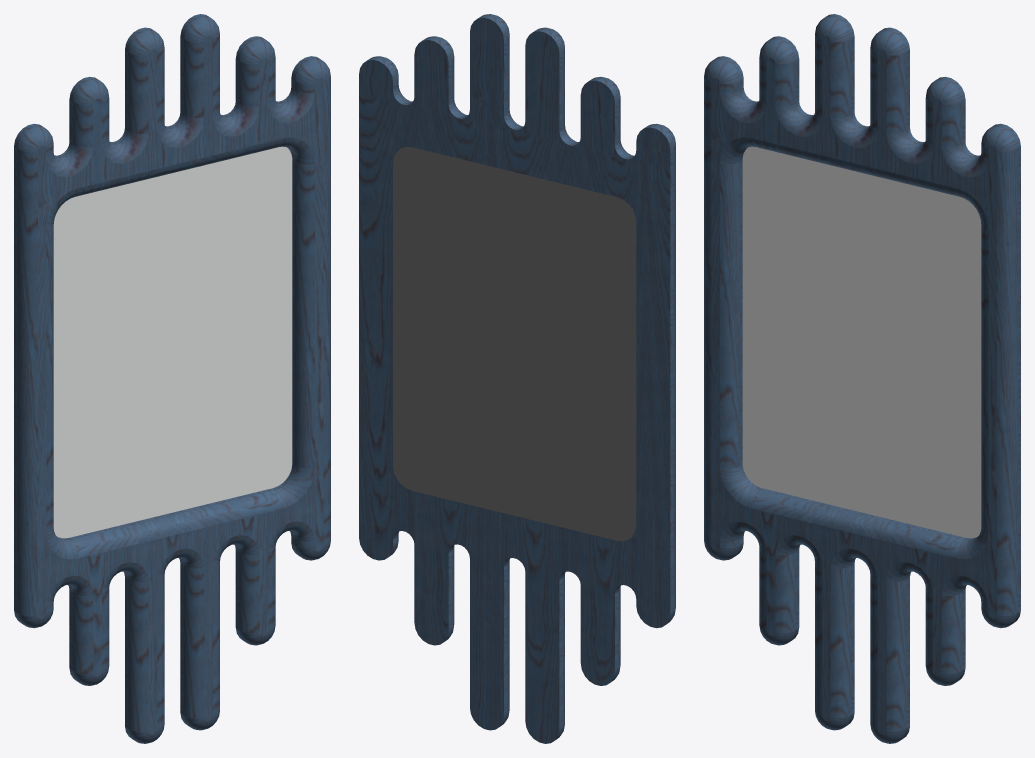
Rendered from DRIP.glb.
The picture shows the model from 3 angles, left to right: view 1: azimuth 30°, elevation 25°; view 2: azimuth 150°, elevation 25°; view 3: azimuth 330°, elevation 25°; orthographic projection.
Visible parts, largest first — view 1: Body1, Body2; view 2: Body1, Body2; view 3: Body1, Body2.
Boxes of the visible parts, x1,y1,x2,y2 form: Body1: (14,14,330,743); Body2: (53,146,292,538); Body1: (359,14,675,743); Body2: (393,146,636,541); Body1: (704,14,1020,743); Body2: (742,146,981,538).
Size of the model in its own units: 1.52 by 3.32 by 0.0938.
7 materials, 5 textured.
